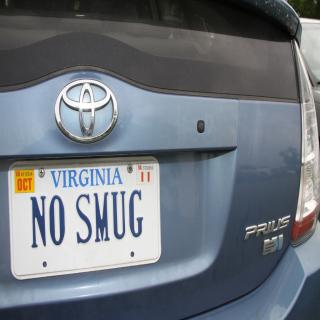license: (7, 156, 163, 281)
